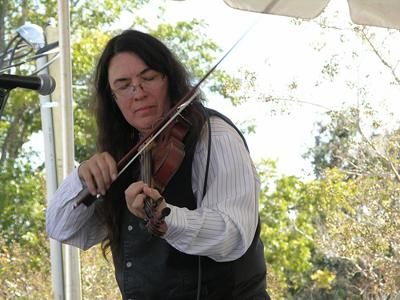person: (44, 29, 274, 300)
